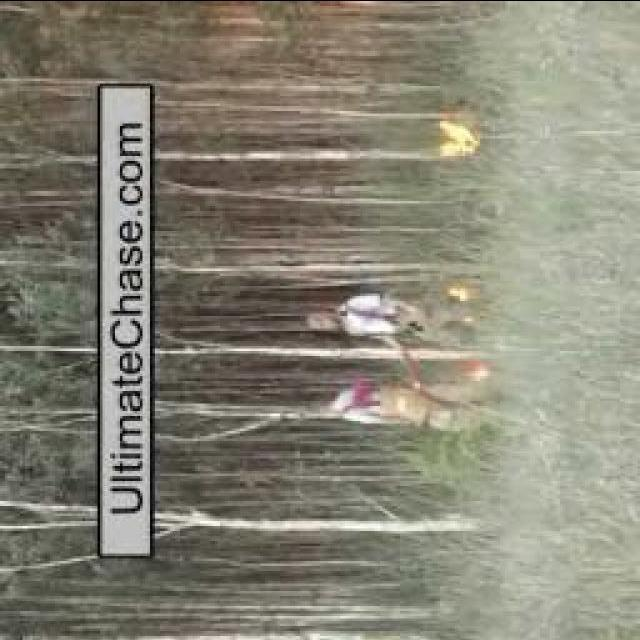Fire: (432, 111, 484, 159), (446, 276, 483, 329), (471, 360, 492, 386)
